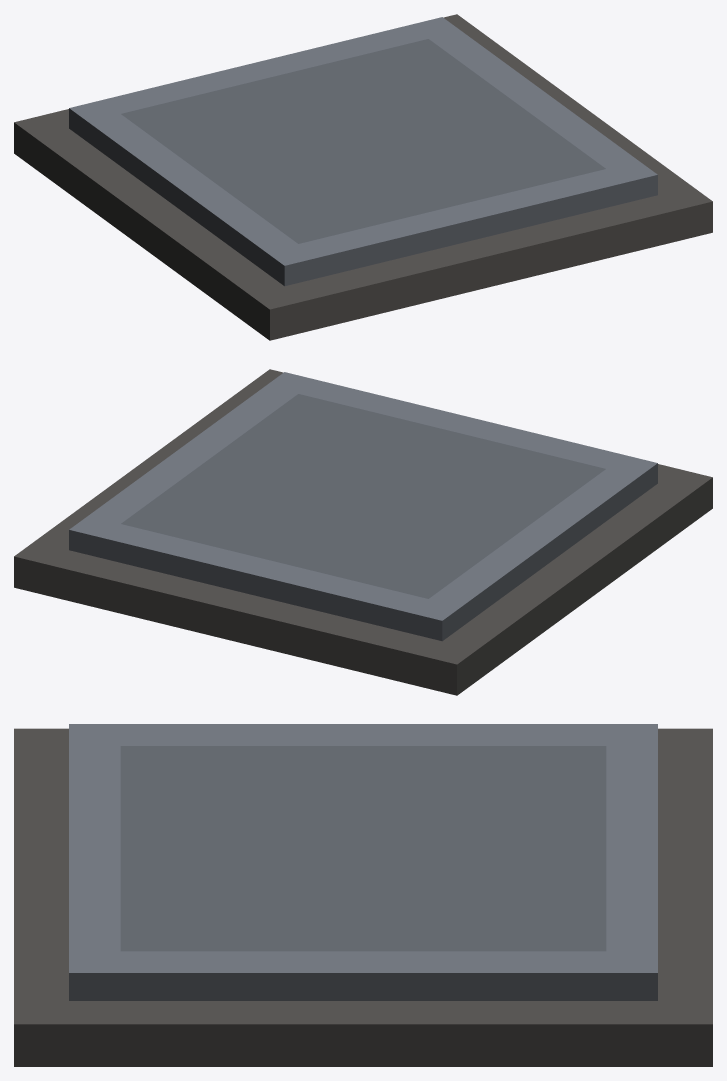
Rendered from SA_Env_ManholeClosed.gltf.
The picture shows the model from 3 angles, top to bottom: view 1: azimuth 30°, elevation 25°; view 2: azimuth 150°, elevation 25°; view 3: azimuth 270°, elevation 25°; orthographic projection. The views are drawn at different scales.
Parts seen in each view (by area): view 1: SA_Env_ManholeClosed; view 2: SA_Env_ManholeClosed; view 3: SA_Env_ManholeClosed.
Part boxes in pixels (left/top/right/bottom): SA_Env_ManholeClosed: left=14, top=14, right=712, bottom=340; SA_Env_ManholeClosed: left=14, top=369, right=712, bottom=695; SA_Env_ManholeClosed: left=14, top=724, right=712, bottom=1066.
Size of the model in its own units: 1.62 by 0.1802 by 1.62.
1 material, 1 textured.
